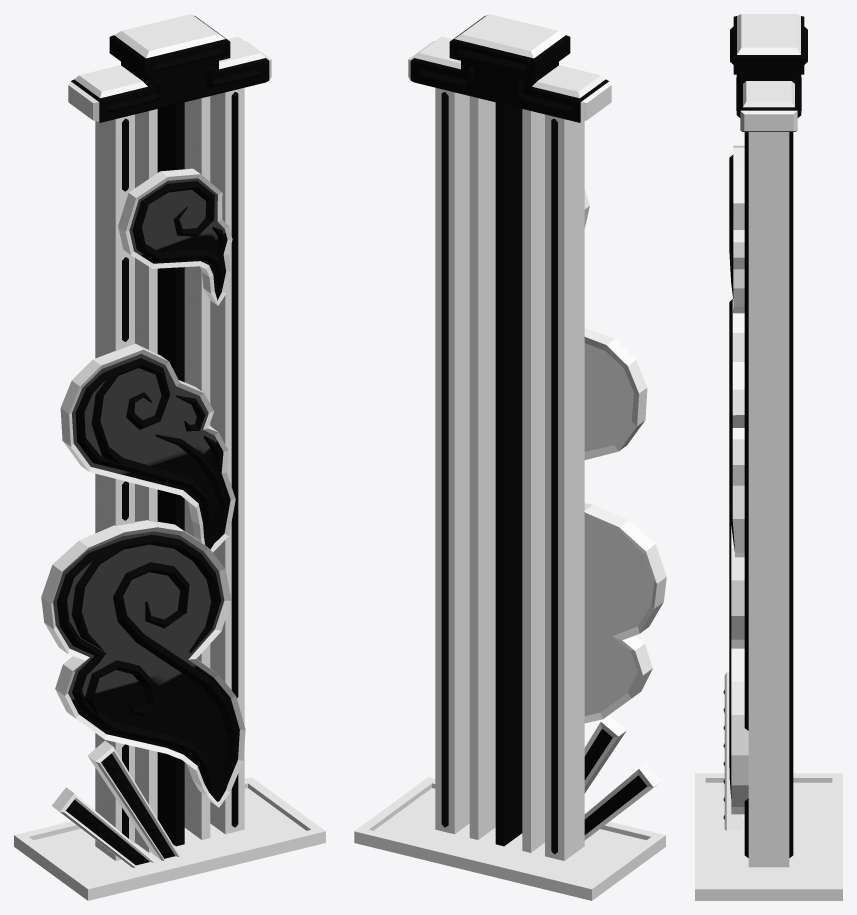
File: SM_Prop_Casino_Sign_Decor_05.fbx
3 views of the same model, side by side, from view 1: azimuth 30°, elevation 25°; view 2: azimuth 150°, elevation 25°; view 3: azimuth 270°, elevation 25° (orthographic).
Visible parts, largest first — view 1: SM_Prop_Casino_Sign_Decor_05; view 2: SM_Prop_Casino_Sign_Decor_05; view 3: SM_Prop_Casino_Sign_Decor_05.
Boxes of the visible parts, bbox=[...] form: SM_Prop_Casino_Sign_Decor_05: bbox=[14, 14, 325, 900]; SM_Prop_Casino_Sign_Decor_05: bbox=[354, 14, 666, 900]; SM_Prop_Casino_Sign_Decor_05: bbox=[695, 14, 842, 900].
Size of the model in its own units: 281 by 849 by 140.
